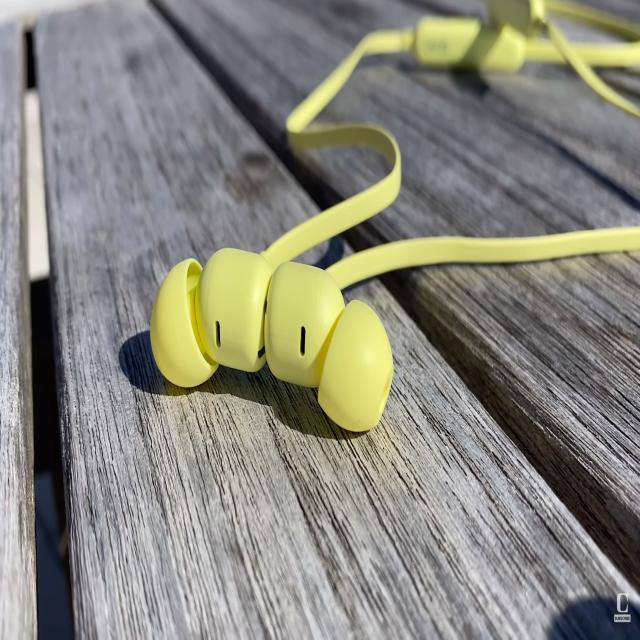Neckband: (148, 0, 640, 434)
